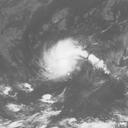cyclone: (43, 39, 84, 83)
